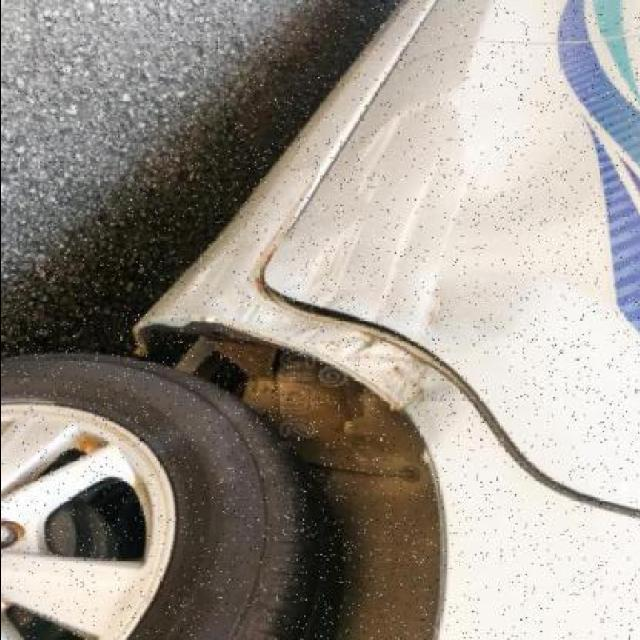doorouter-dent: (263, 45, 640, 315)
quaterpanel-dent: (115, 316, 451, 543)
